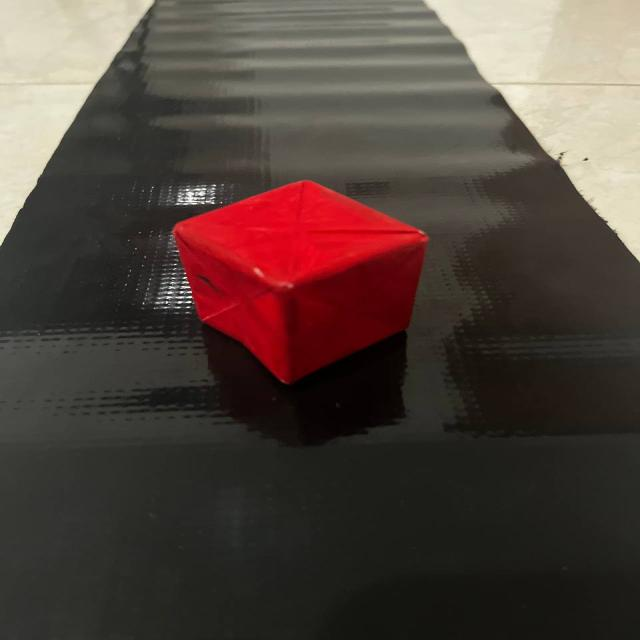Rojo: (154, 166, 442, 400)
